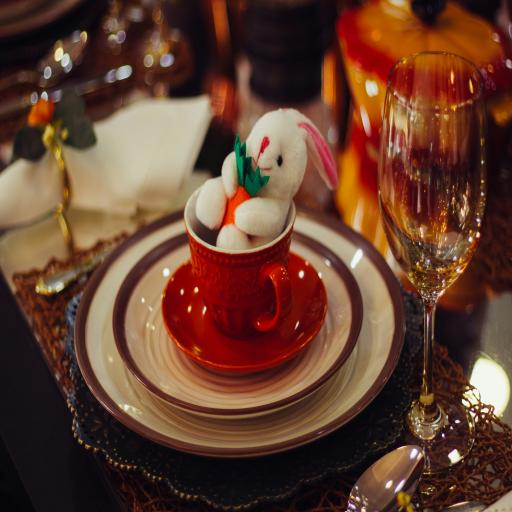phone: (182, 179, 296, 338)
